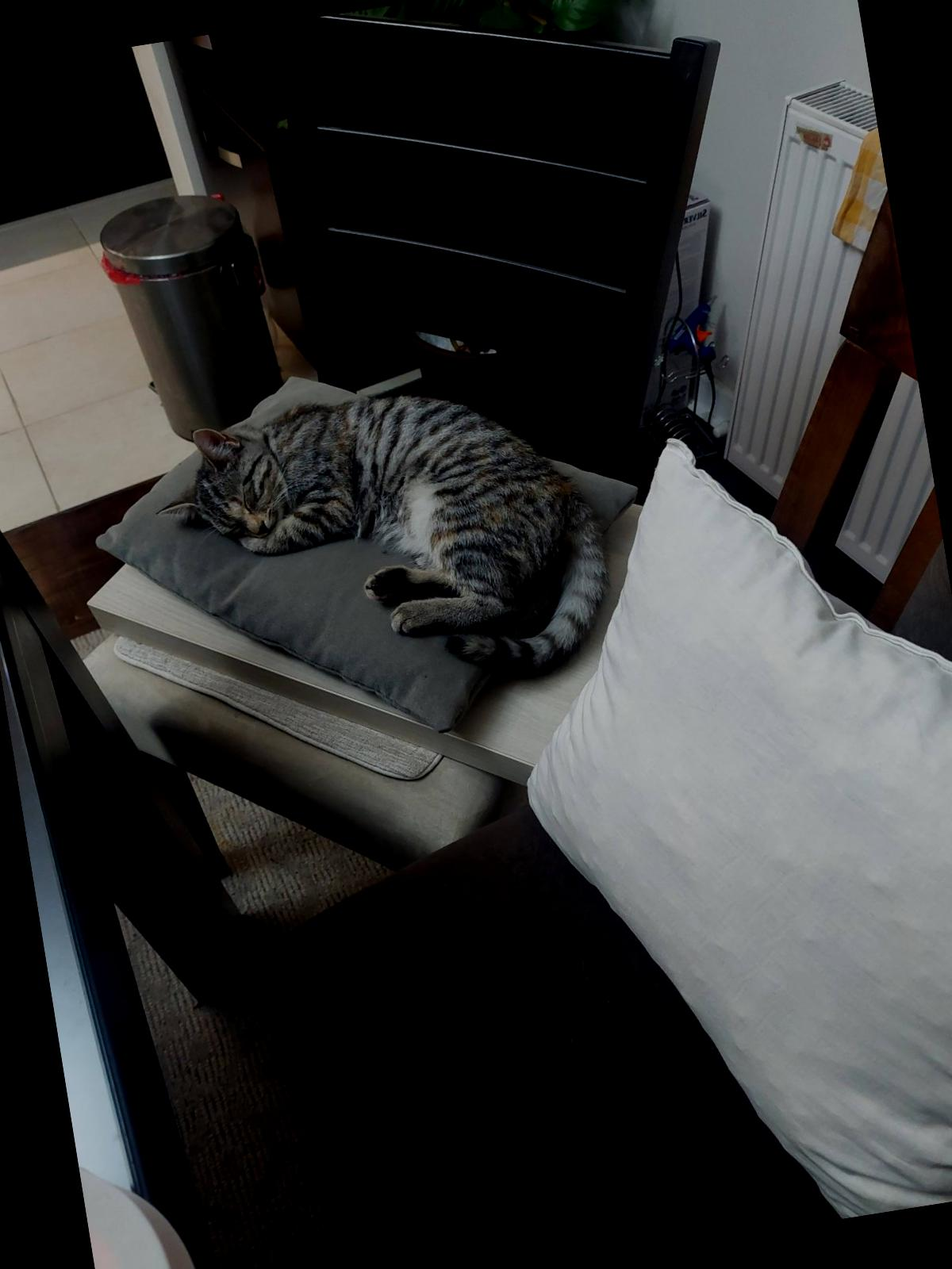macka: (149, 363, 622, 730)
